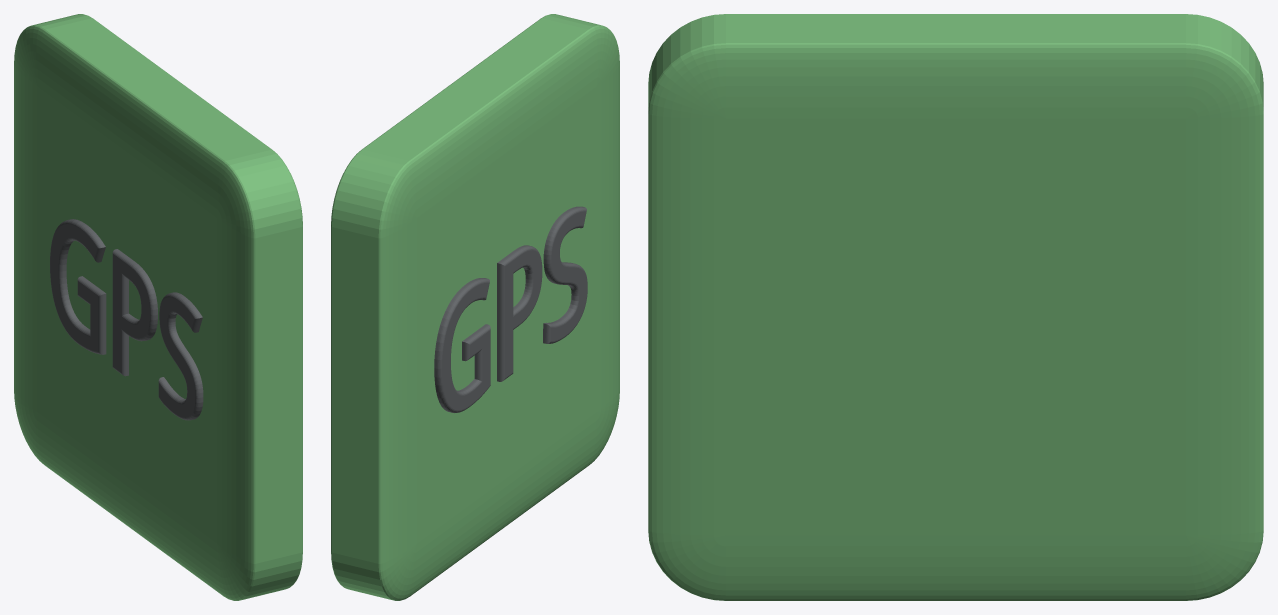
Rendered from Gps.glb.
3 views of the same model, side by side, from view 1: azimuth 30°, elevation 25°; view 2: azimuth 150°, elevation 25°; view 3: azimuth 270°, elevation 25° (orthographic). The views are drawn at different scales.
Parts seen in each view (by area): view 1: Mesh_Mesh_head_geo.001_lambert2SG.001; view 2: Mesh_Mesh_head_geo.001_lambert2SG.001; view 3: Mesh_Mesh_head_geo.001_lambert2SG.001.
Boxes of the visible parts, x1,y1,x2,y2 form: Mesh_Mesh_head_geo.001_lambert2SG.001: [14, 14, 302, 600]; Mesh_Mesh_head_geo.001_lambert2SG.001: [331, 14, 619, 600]; Mesh_Mesh_head_geo.001_lambert2SG.001: [648, 14, 1263, 600].
Bounding box in the file's own units: 0.0033 × 0.02 × 0.02.
